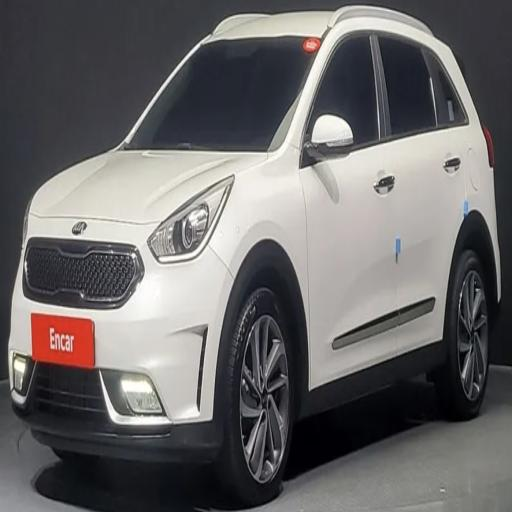normal: (15, 17, 507, 487)
